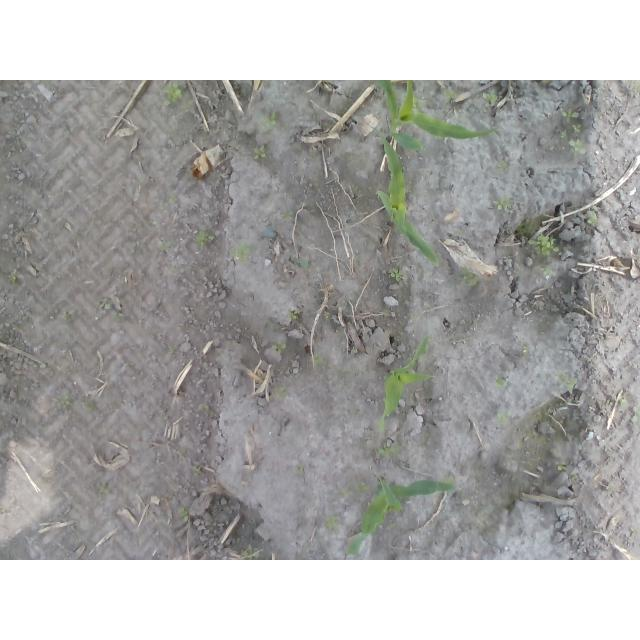Maize: (369, 126, 440, 266), (346, 474, 459, 559), (380, 80, 501, 140), (379, 334, 437, 435)
Weeds: (527, 235, 560, 261), (227, 242, 253, 266), (164, 82, 185, 111), (99, 296, 123, 320), (553, 374, 580, 394), (343, 480, 369, 497), (375, 444, 401, 461), (259, 110, 277, 134), (460, 268, 480, 287), (54, 397, 75, 415), (194, 232, 215, 249), (569, 140, 588, 157), (241, 546, 263, 560), (482, 87, 499, 105), (583, 210, 602, 226), (291, 256, 312, 270), (494, 199, 514, 213), (389, 269, 407, 282), (96, 483, 111, 498), (326, 514, 339, 531), (272, 341, 286, 356), (80, 398, 96, 411), (631, 404, 640, 427), (156, 241, 173, 253), (443, 87, 457, 101), (274, 387, 287, 402), (178, 506, 190, 522), (562, 108, 578, 120), (497, 411, 510, 425), (253, 147, 266, 160), (544, 266, 557, 278), (289, 306, 300, 320), (61, 309, 75, 320), (612, 397, 629, 406), (193, 466, 205, 478), (555, 460, 565, 473), (9, 270, 19, 283), (313, 354, 323, 367), (500, 159, 509, 173), (497, 378, 507, 390), (572, 123, 584, 133), (298, 467, 307, 477), (632, 81, 640, 92), (170, 193, 178, 202), (569, 474, 576, 483), (561, 130, 568, 139), (411, 312, 418, 320), (524, 346, 530, 355)
